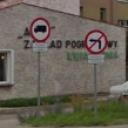NoVirarEsquerda: (86, 30, 110, 54)
